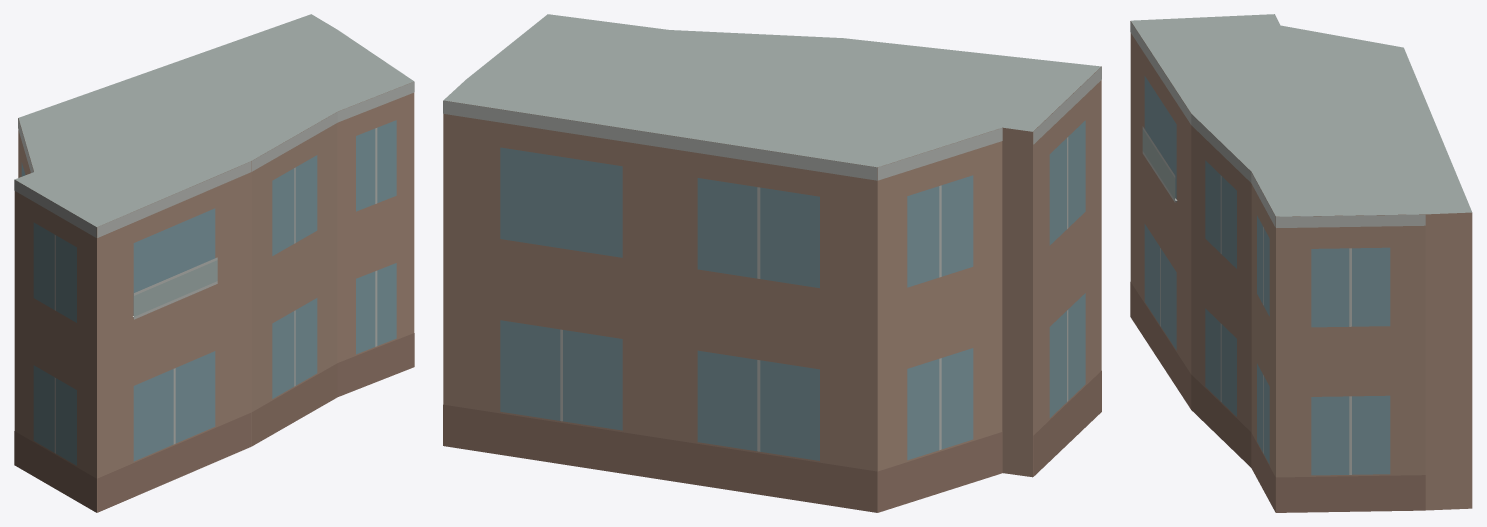
File: survey-upis-32495262.glb
The picture shows the model from 3 angles, left to right: view 1: azimuth 30°, elevation 25°; view 2: azimuth 150°, elevation 25°; view 3: azimuth 270°, elevation 25°; orthographic projection. The views are drawn at different scales.
Visible parts, largest first — view 1: survey-upis-32495262.tmp; view 2: survey-upis-32495262.tmp; view 3: survey-upis-32495262.tmp.
Part boxes in pixels (box(x1,y1,x2,y2)): survey-upis-32495262.tmp: box(14, 14, 414, 512); survey-upis-32495262.tmp: box(443, 14, 1101, 512); survey-upis-32495262.tmp: box(1130, 14, 1472, 512).
Bounding box in the file's own units: 9.26 × 6.3 × 6.6.
